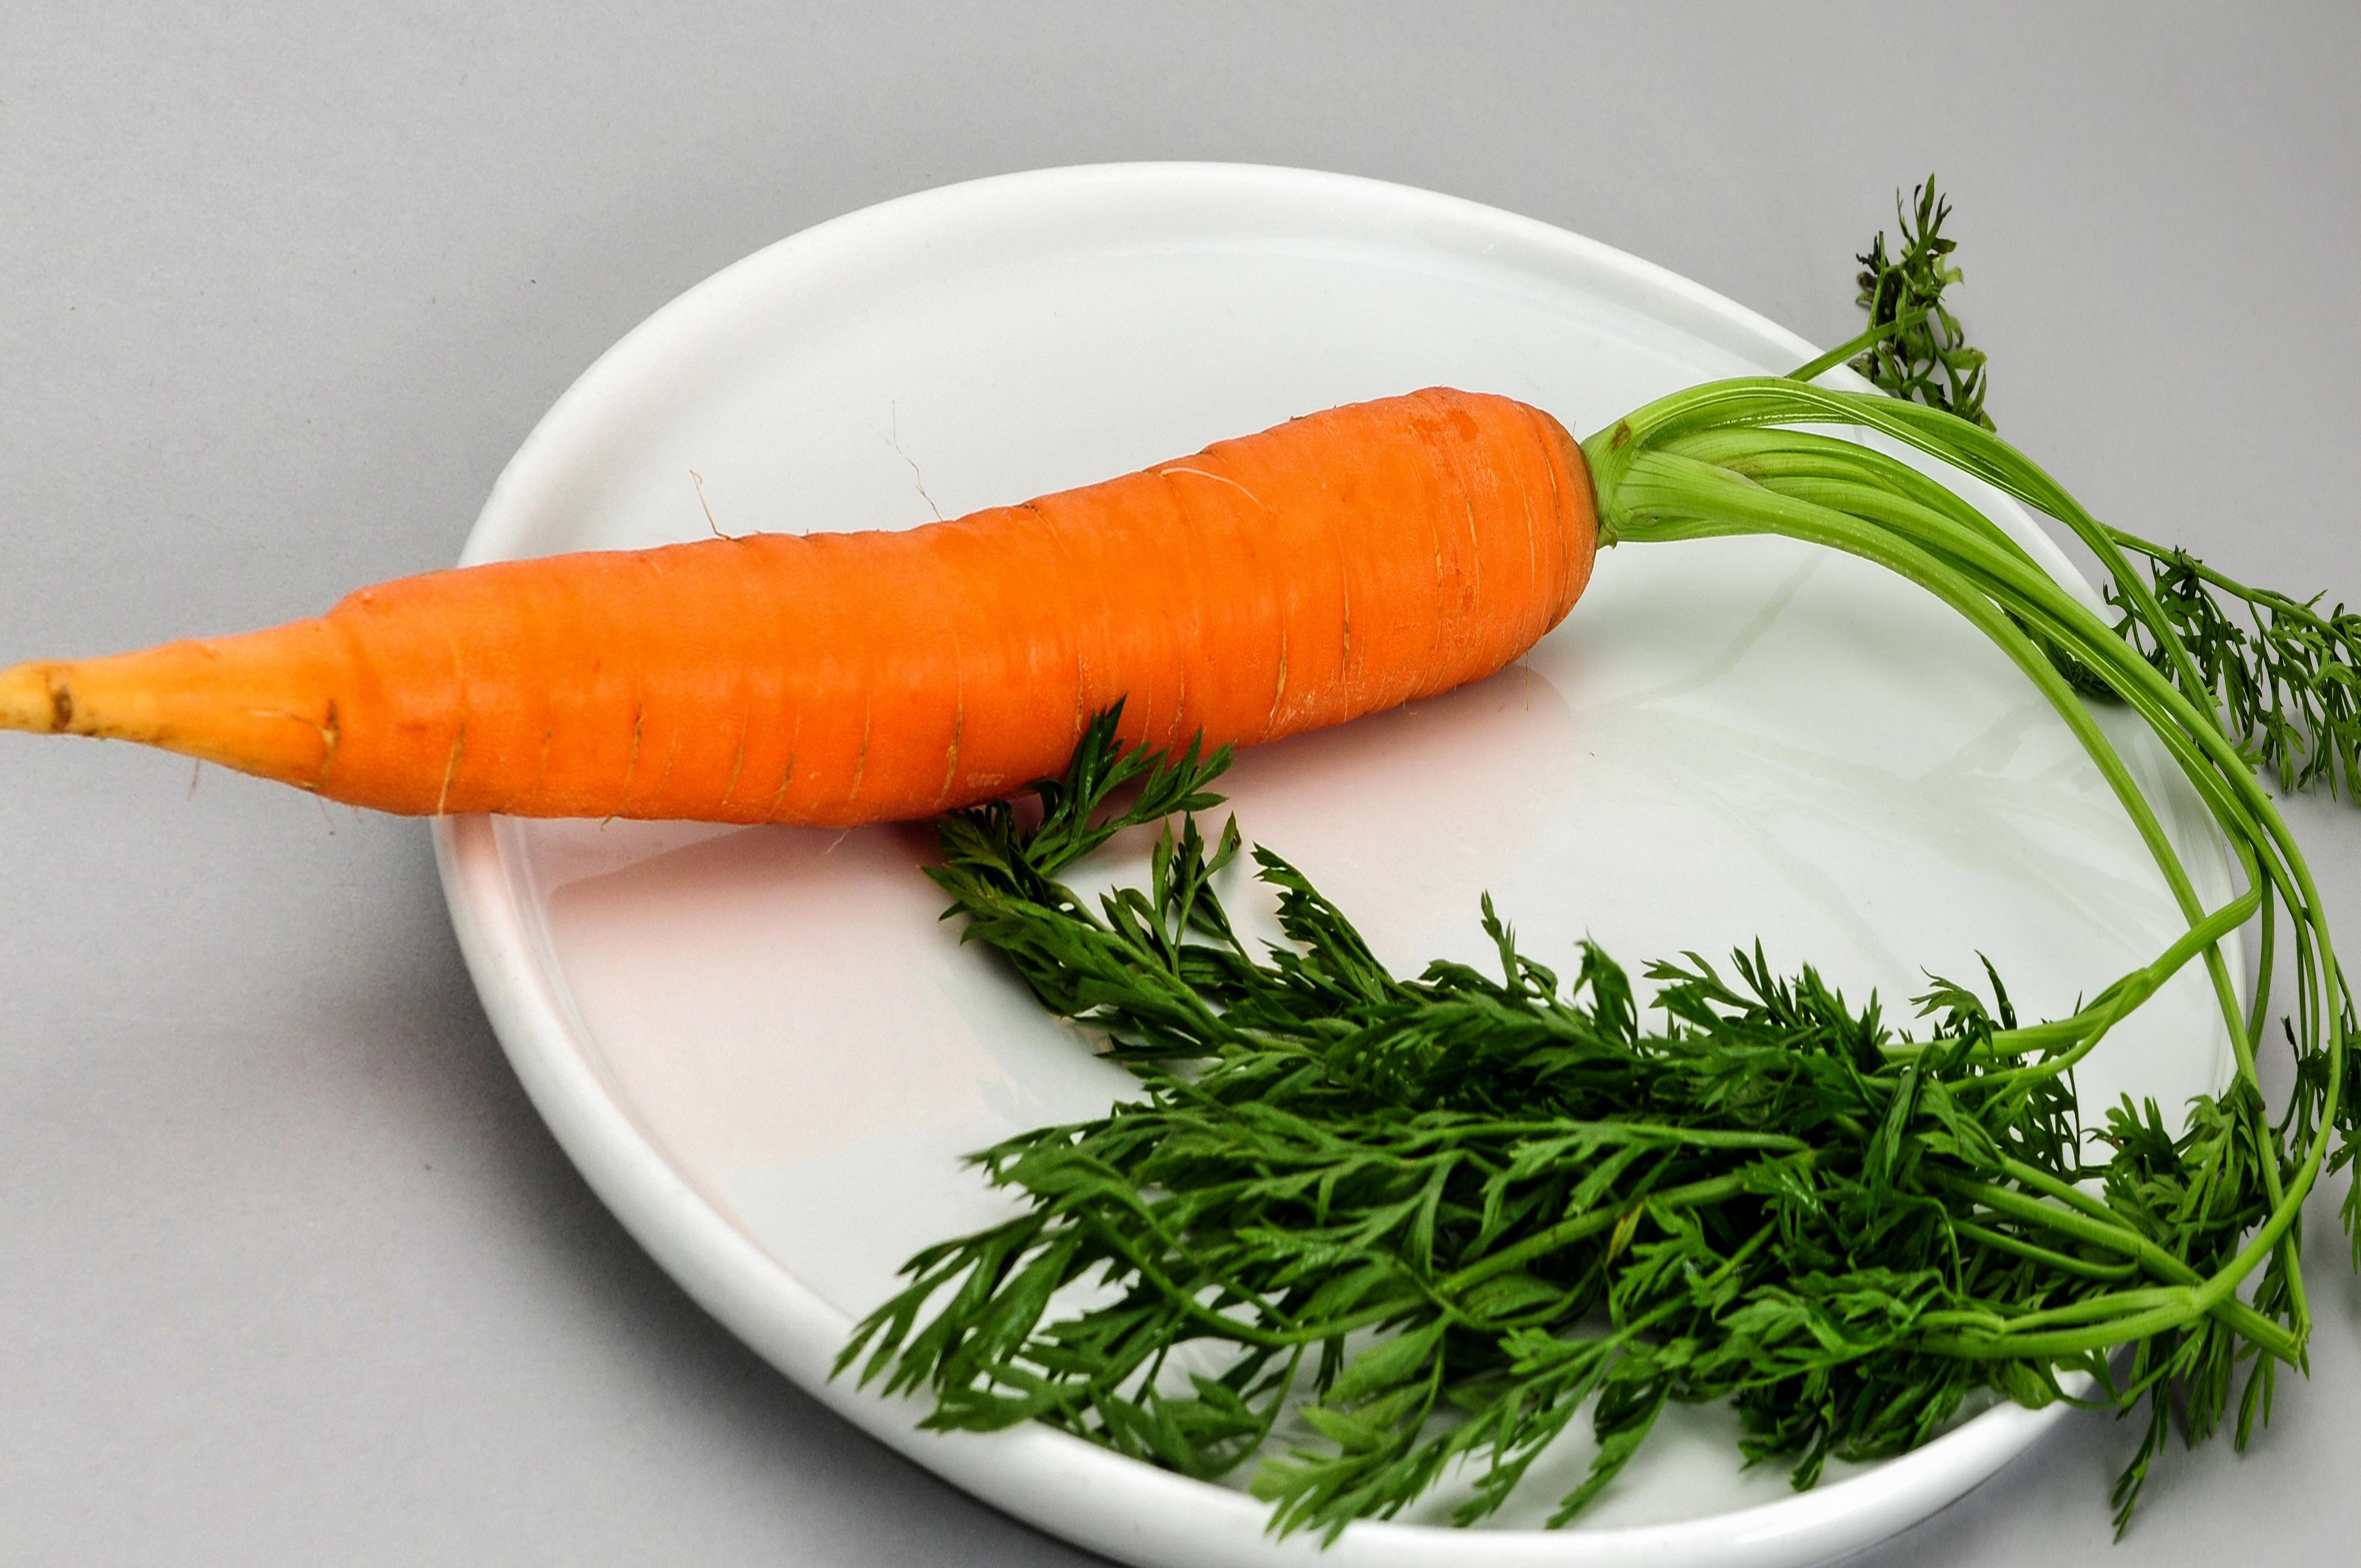carrot: (0, 350, 2161, 796)
